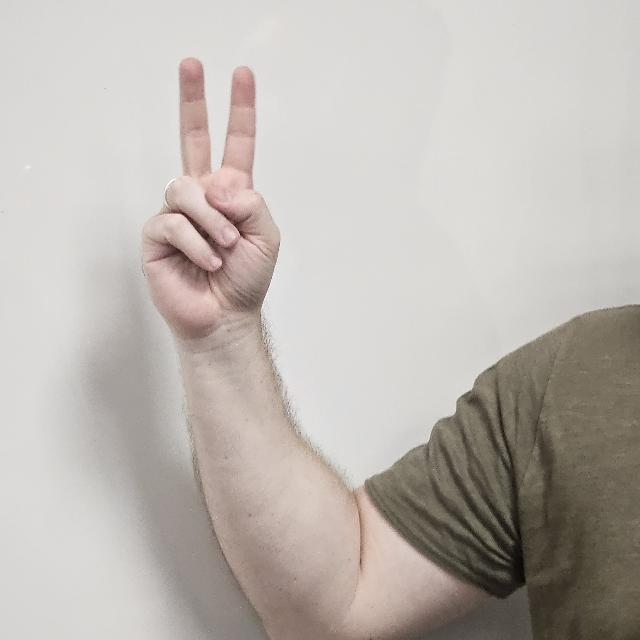Triangulo: (139, 54, 283, 368)
